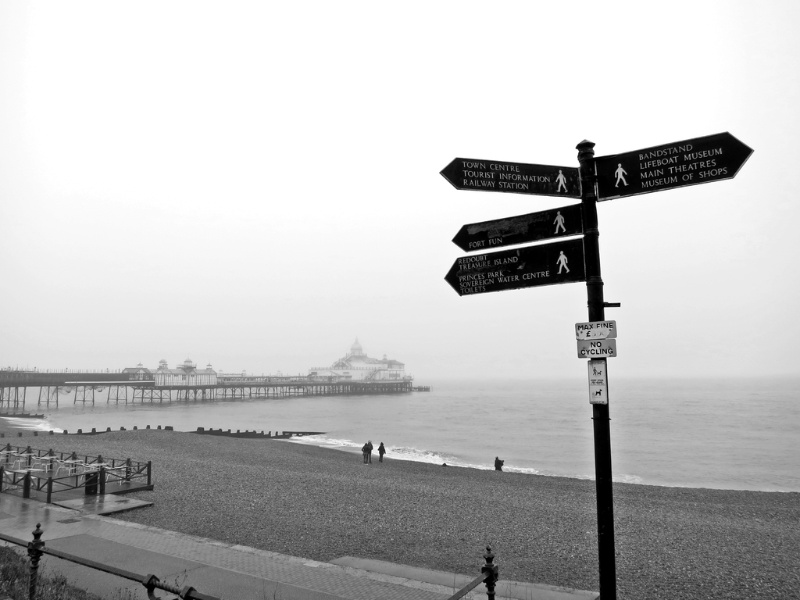pedestrian_crossing_ahead: (551, 166, 571, 195), (613, 158, 630, 191), (554, 249, 571, 276), (551, 209, 567, 234)
